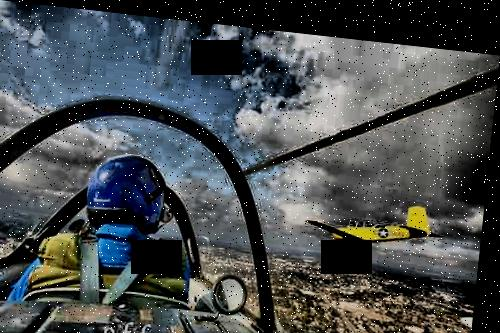seatbelt: (116, 228, 168, 299), (75, 228, 120, 302)
